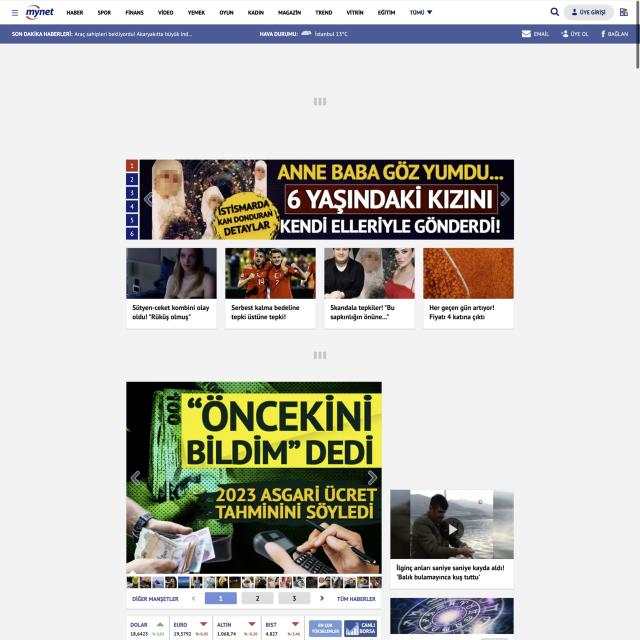logo: (23, 4, 57, 22)
navigation: (65, 8, 434, 18), (11, 8, 19, 18)
video: (390, 489, 514, 559)
